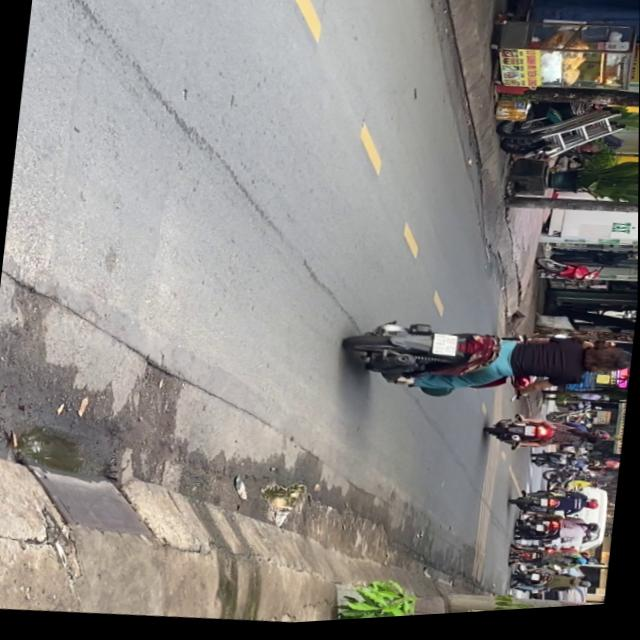licenseplate: (341, 306, 635, 424)
motorcyclist: (580, 347, 633, 382)
nohelmet: (433, 337, 459, 361)
